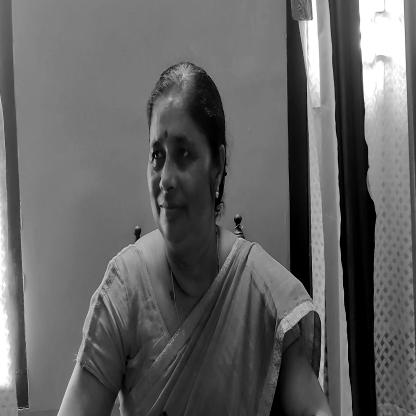Distracted: (140, 73, 223, 247)
